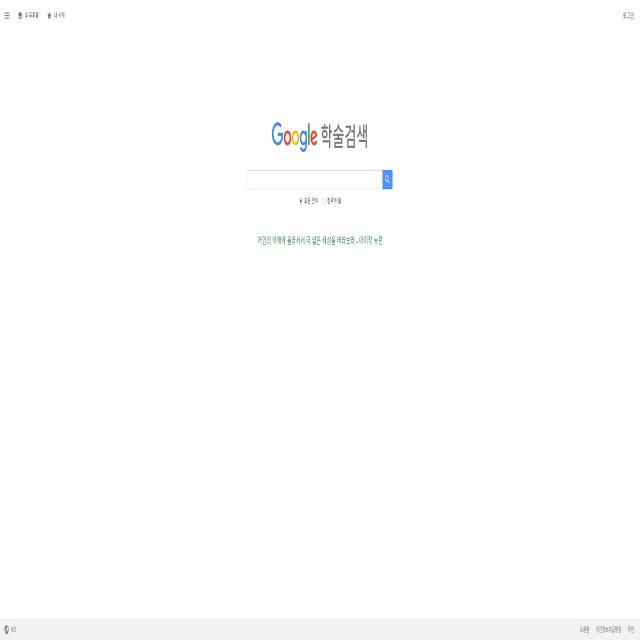search: (241, 160, 396, 196)
tab-bar: (1, 6, 70, 26)
